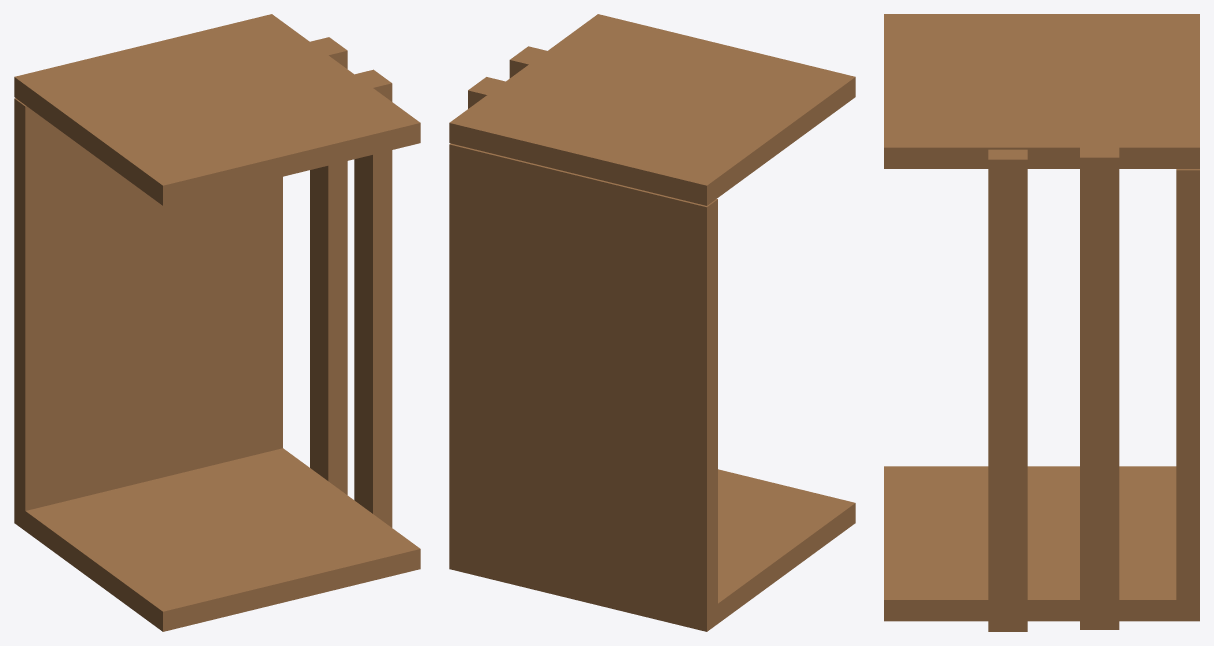
Rendered from tinker.obj.
3 renders of one model, left to right at view 1: azimuth 30°, elevation 25°; view 2: azimuth 150°, elevation 25°; view 3: azimuth 270°, elevation 25°, orthographic. The views are drawn at different scales.
Visible parts, largest first — view 1: obj_0; view 2: obj_0; view 3: obj_0.
Part boxes in pixels (x1=…): obj_0: x1=14, y1=14, x2=420, y2=631; obj_0: x1=449, y1=14, x2=855, y2=631; obj_0: x1=884, y1=14, x2=1199, y2=631.
Size of the model in its own units: 216 by 331 by 200.
